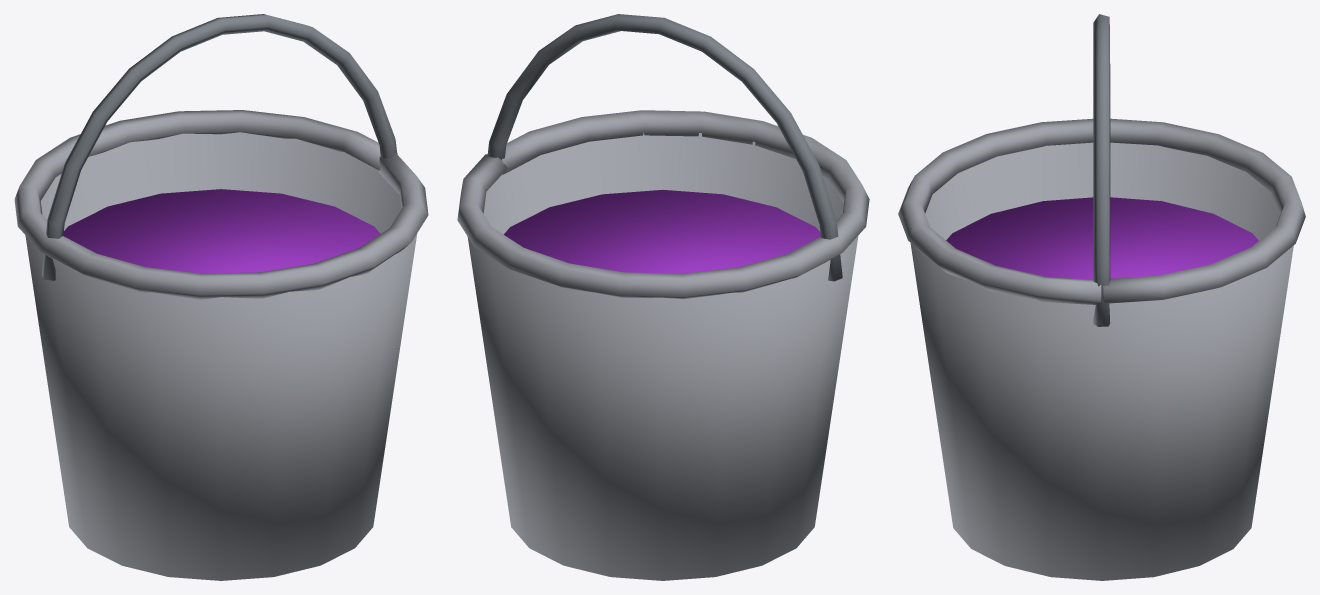
Rendered from violet_paint.glb.
The picture shows the model from 3 angles, left to right: view 1: azimuth 30°, elevation 25°; view 2: azimuth 150°, elevation 25°; view 3: azimuth 270°, elevation 25°; orthographic projection.
Visible parts, largest first — view 1: violet_paint_v0; view 2: violet_paint_v0; view 3: violet_paint_v0.
Part boxes in pixels (<box>): violet_paint_v0: <box>14,14,428,580</box>; violet_paint_v0: <box>457,14,869,580</box>; violet_paint_v0: <box>898,14,1305,580</box>.
Bounding box in the file's own units: 0.2696 × 0.3556 × 0.2693.
